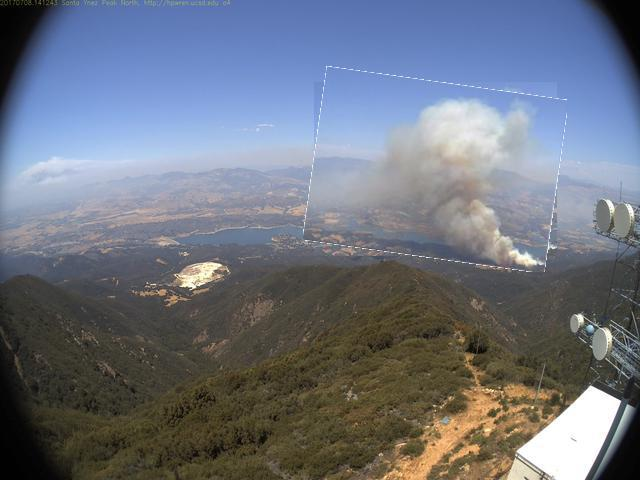smoke: (310, 75, 564, 266)
